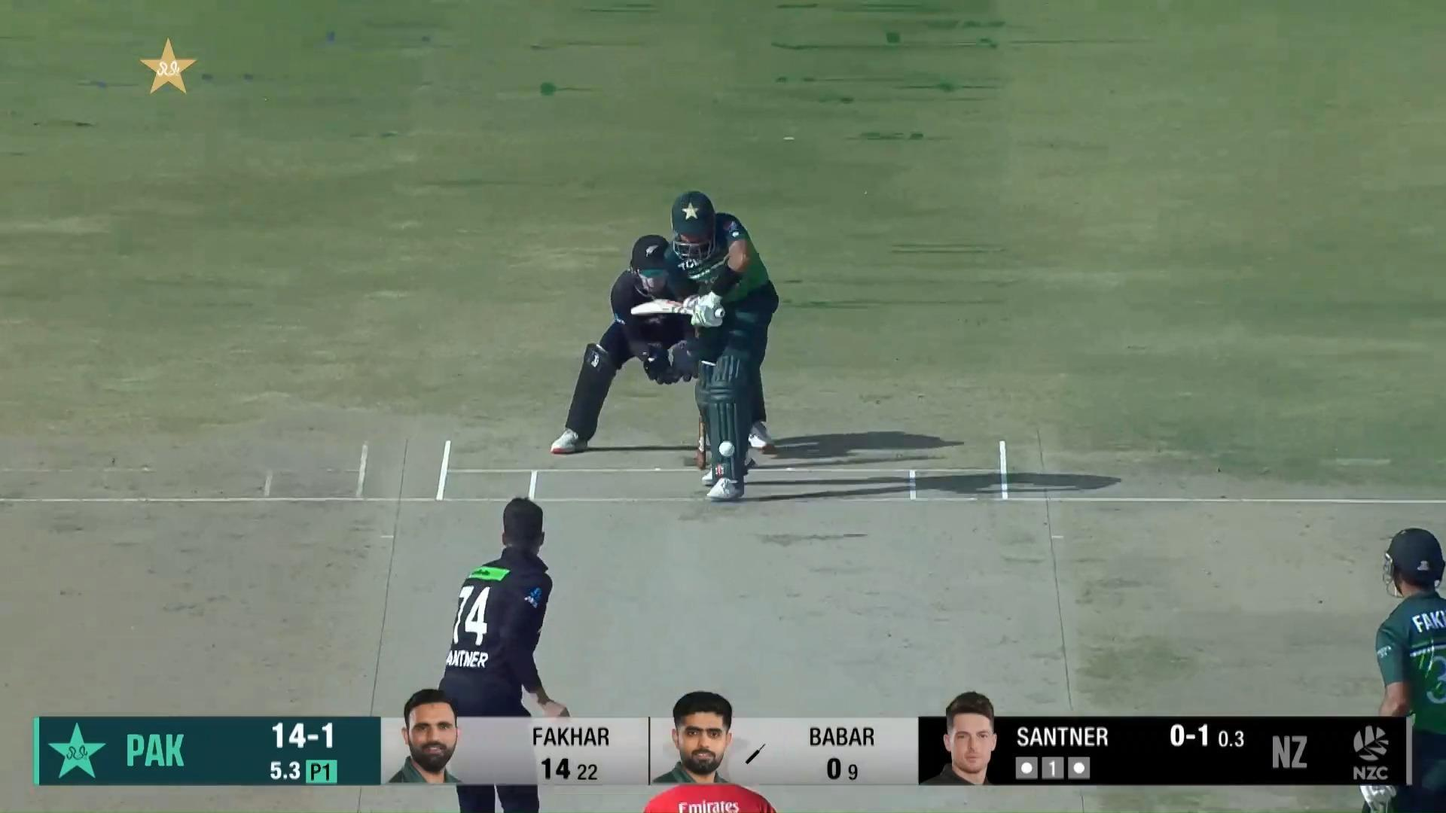BM 1: (630, 190, 780, 501)
BO: (434, 494, 573, 813)
